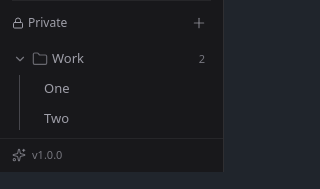
Test case: Sidebar › opens the context menu on right-click with Rename and Delete
Right-click the text "Work".
right_click(68, 58)  # box 52,49 -> 84,67
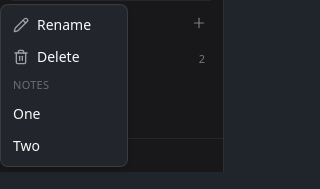
Now the text "Rename" is shown, box 37,15 -> 91,35
Now the text "Delete" is shown, box 37,47 -> 80,67
